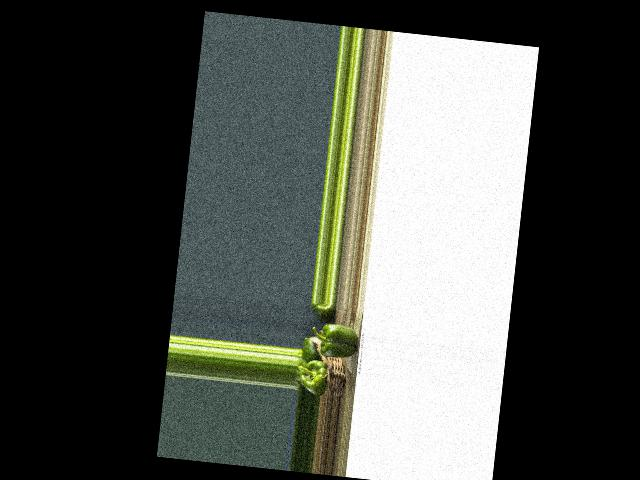bell_pepper: (310, 301, 332, 317)
